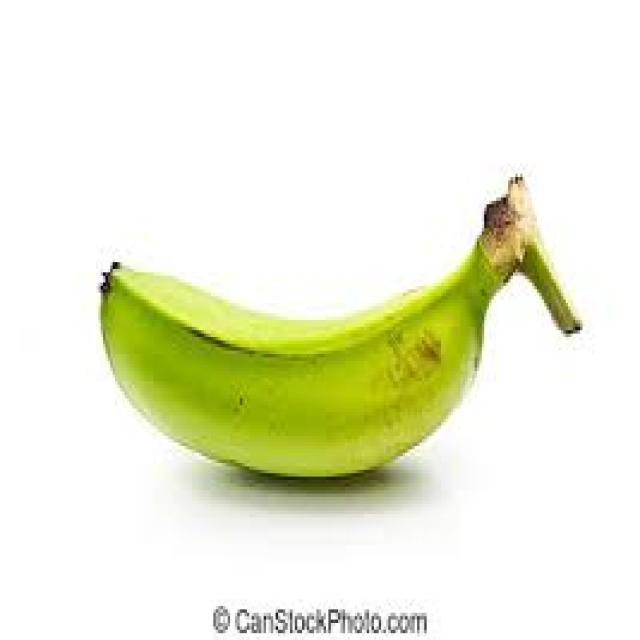non_orange: (98, 177, 532, 485)
